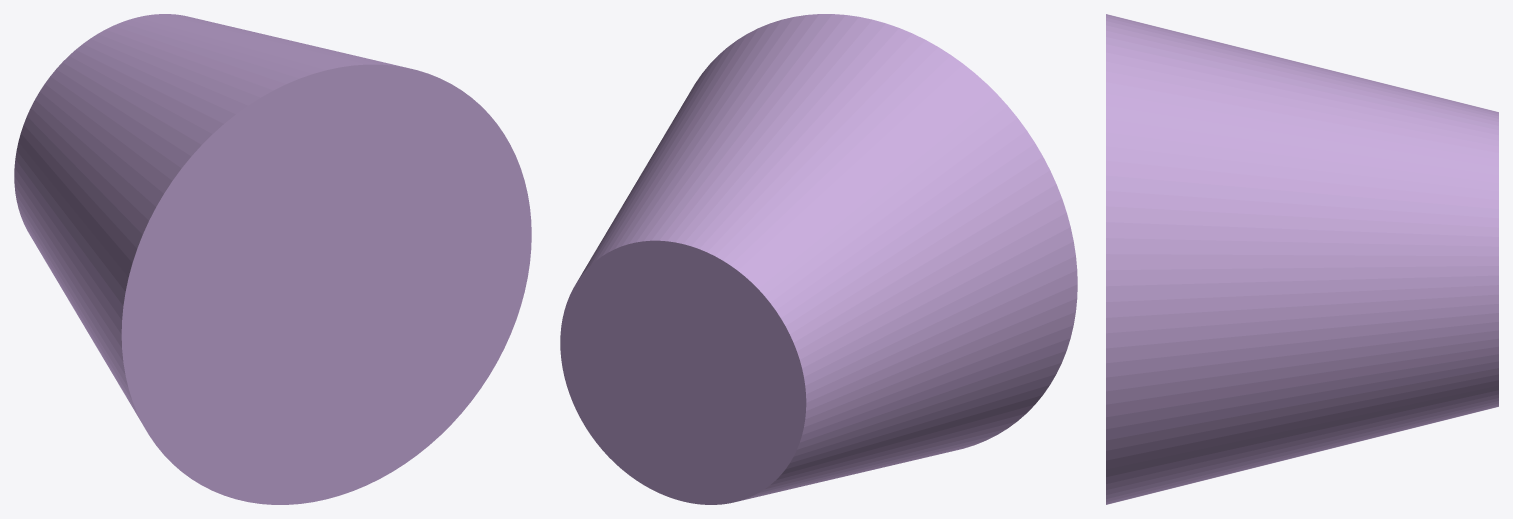
Rendered from frustum_demo.glb.
The picture shows the model from 3 angles, left to right: view 1: azimuth 30°, elevation 25°; view 2: azimuth 150°, elevation 25°; view 3: azimuth 270°, elevation 25°; orthographic projection. The views are drawn at different scales.
Visible parts, largest first — view 1: frustum; view 2: frustum; view 3: frustum.
Part boxes in pixels (x1,y1,x2,y2): frustum: (14,14,531,504); frustum: (560,14,1077,504); frustum: (1106,14,1498,504).
Size of the model in its own units: 20 by 20 by 16.
